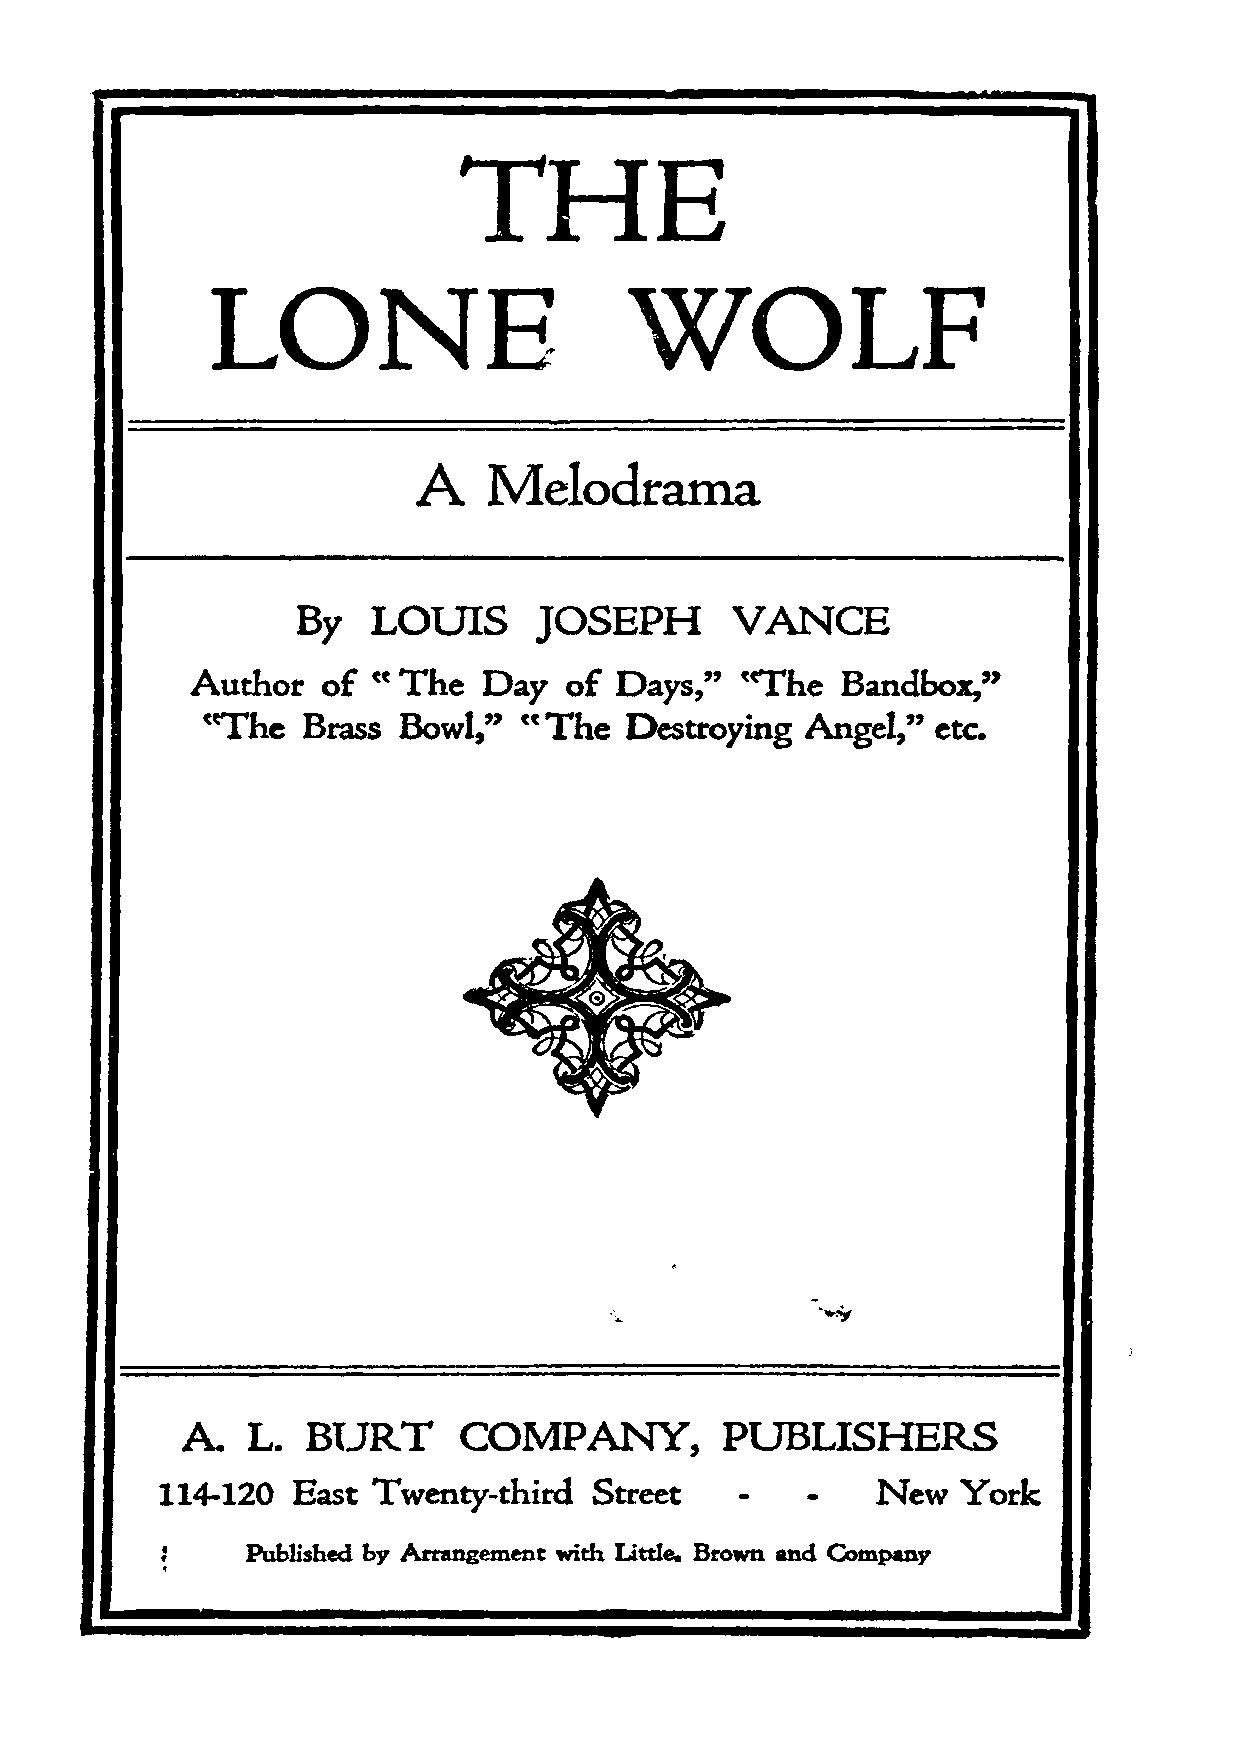author: (290, 601, 888, 648)
title: (205, 152, 988, 373)
